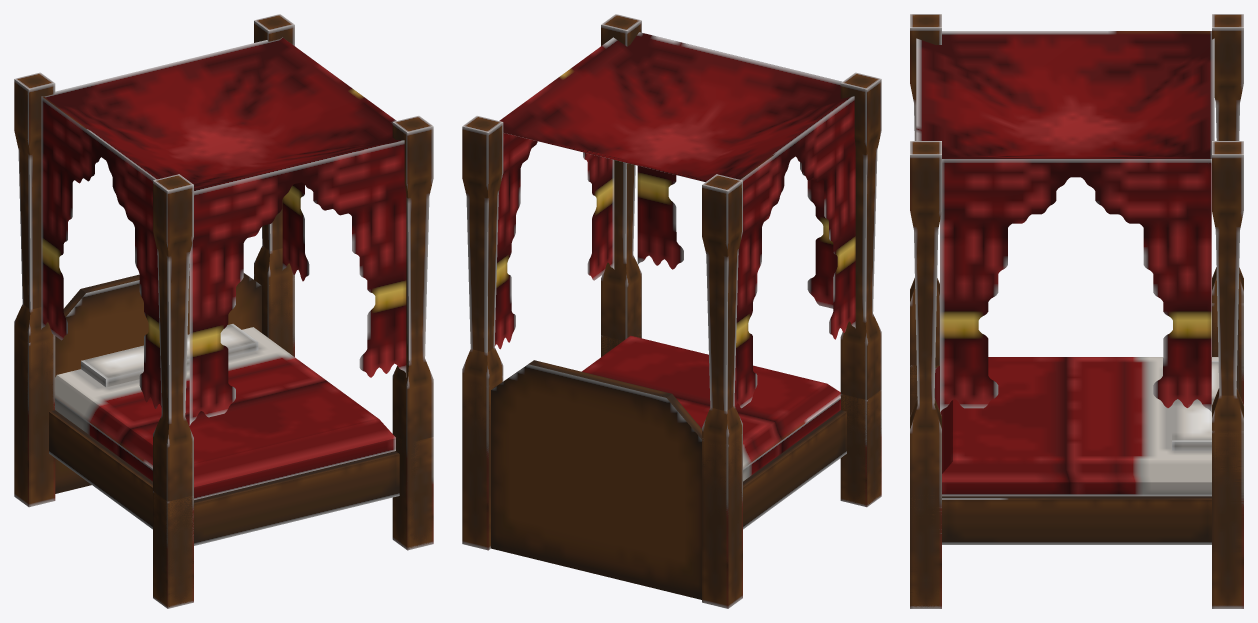
File: HCMWBed.obj
3 views of the same model, side by side, from view 1: azimuth 30°, elevation 25°; view 2: azimuth 150°, elevation 25°; view 3: azimuth 270°, elevation 25° (orthographic). The views are drawn at different scales.
Parts seen in each view (by area): view 1: pbed_cloth_top, pbed_cloth_front, pbed_mattress, pbed_base, pbed_post_fl, pbed_cloth_left, pbed_post_fr, pbed_back_bl, pbed_backboard, pbed_post_bl_sm, pbed_post_fl_sm, pbed_post_br_sm (+4 smaller); view 2: pbed_backboard, pbed_cloth_top, pbed_cloth_left, pbed_mattress, pbed_back_bl, pbed_post_fl, pbed_post_br, pbed_post_bl_sm, pbed_cloth_right, pbed_post_fr, pbed_post_br_sm, pbed_cloth_front (+2 smaller); view 3: pbed_cloth_top, pbed_cloth_right, pbed_mattress, pbed_base, pbed_post_fr, pbed_post_br, pbed_post_br_sm, pbed_back_bl, pbed_post_fl, pbed_pillow, pbed_post_bl_sm.
Part boxes in pixels (<box>): pbed_cloth_top: <box>42,37,402,191</box>; pbed_cloth_front: <box>189,140,406,425</box>; pbed_mattress: <box>55,327,395,499</box>; pbed_base: <box>49,410,399,545</box>; pbed_post_fl: <box>153,174,193,608</box>; pbed_cloth_left: <box>41,96,161,408</box>; pbed_post_fr: <box>392,115,433,550</box>; pbed_back_bl: <box>14,72,55,506</box>; pbed_backboard: <box>55,264,261,493</box>; pbed_post_bl_sm: <box>14,304,55,506</box>; pbed_post_fl_sm: <box>153,491,193,608</box>; pbed_post_br_sm: <box>254,246,294,356</box>; pbed_backboard: <box>491,360,701,599</box>; pbed_cloth_top: <box>499,32,853,182</box>; pbed_cloth_left: <box>734,96,855,408</box>; pbed_mattress: <box>582,335,840,481</box>; pbed_back_bl: <box>702,174,742,607</box>; pbed_post_fl: <box>840,72,881,506</box>; pbed_post_br: <box>462,115,503,549</box>; pbed_post_bl_sm: <box>702,406,742,608</box>; pbed_cloth_right: <box>494,133,614,349</box>; pbed_post_fr: <box>601,14,641,356</box>; pbed_post_br_sm: <box>462,347,503,550</box>; pbed_cloth_front: <box>637,50,837,308</box>; pbed_cloth_top: <box>916,31,1214,158</box>; pbed_cloth_right: <box>940,159,1211,412</box>; pbed_mattress: <box>935,357,1218,496</box>; pbed_base: <box>934,388,1211,544</box>; pbed_post_fr: <box>910,141,941,608</box>; pbed_post_br: <box>1212,141,1243,608</box>; pbed_post_br_sm: <box>1212,388,1243,608</box>; pbed_back_bl: <box>1212,14,1243,403</box>; pbed_post_fl: <box>910,14,941,414</box>; pbed_pillow: <box>1172,361,1218,450</box>; pbed_post_bl_sm: <box>1212,267,1243,404</box>.
Size of the model in its own units: 2 by 3 by 2.
